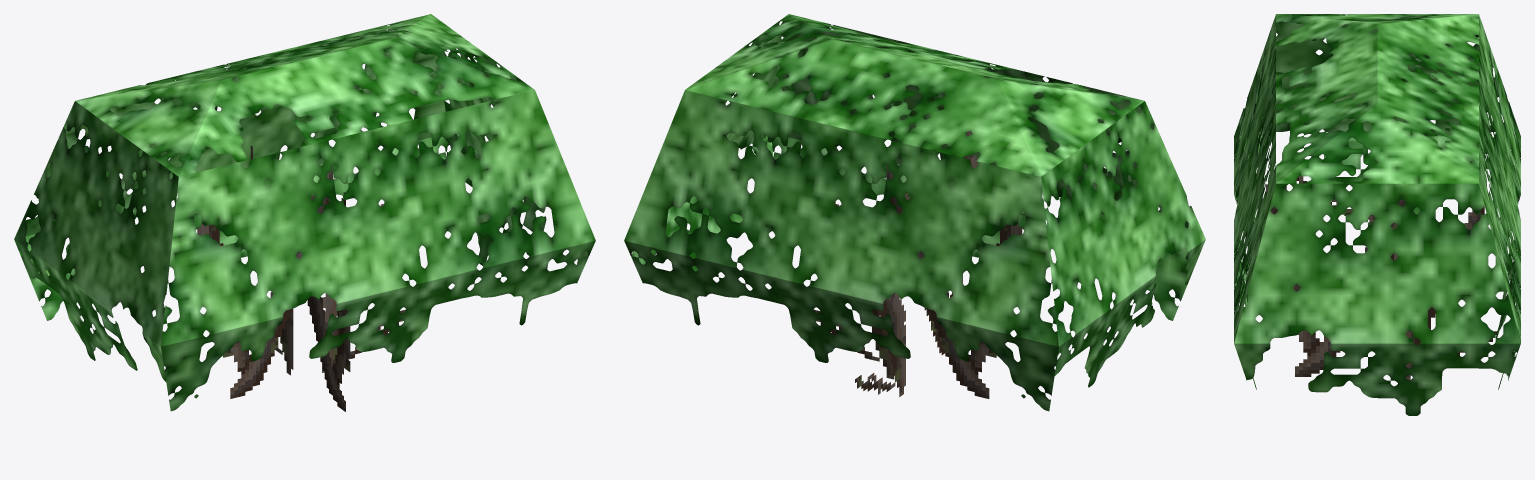
Rendered from bush_long_half_single_roots_spring.fbx.
The picture shows the model from 3 angles, left to right: view 1: azimuth 30°, elevation 25°; view 2: azimuth 150°, elevation 25°; view 3: azimuth 270°, elevation 25°; orthographic projection. The views are drawn at different scales.
Visible parts, largest first — view 1: bush_long_half_single_roots_spring; view 2: bush_long_half_single_roots_spring; view 3: bush_long_half_single_roots_spring.
Boxes of the visible parts, x1,y1,x2,y2 form: bush_long_half_single_roots_spring: (14, 14, 595, 411); bush_long_half_single_roots_spring: (624, 14, 1205, 411); bush_long_half_single_roots_spring: (1234, 14, 1520, 415).
Size of the model in its own units: 123 by 87.65 by 71.91.
2 materials, 2 textured.
